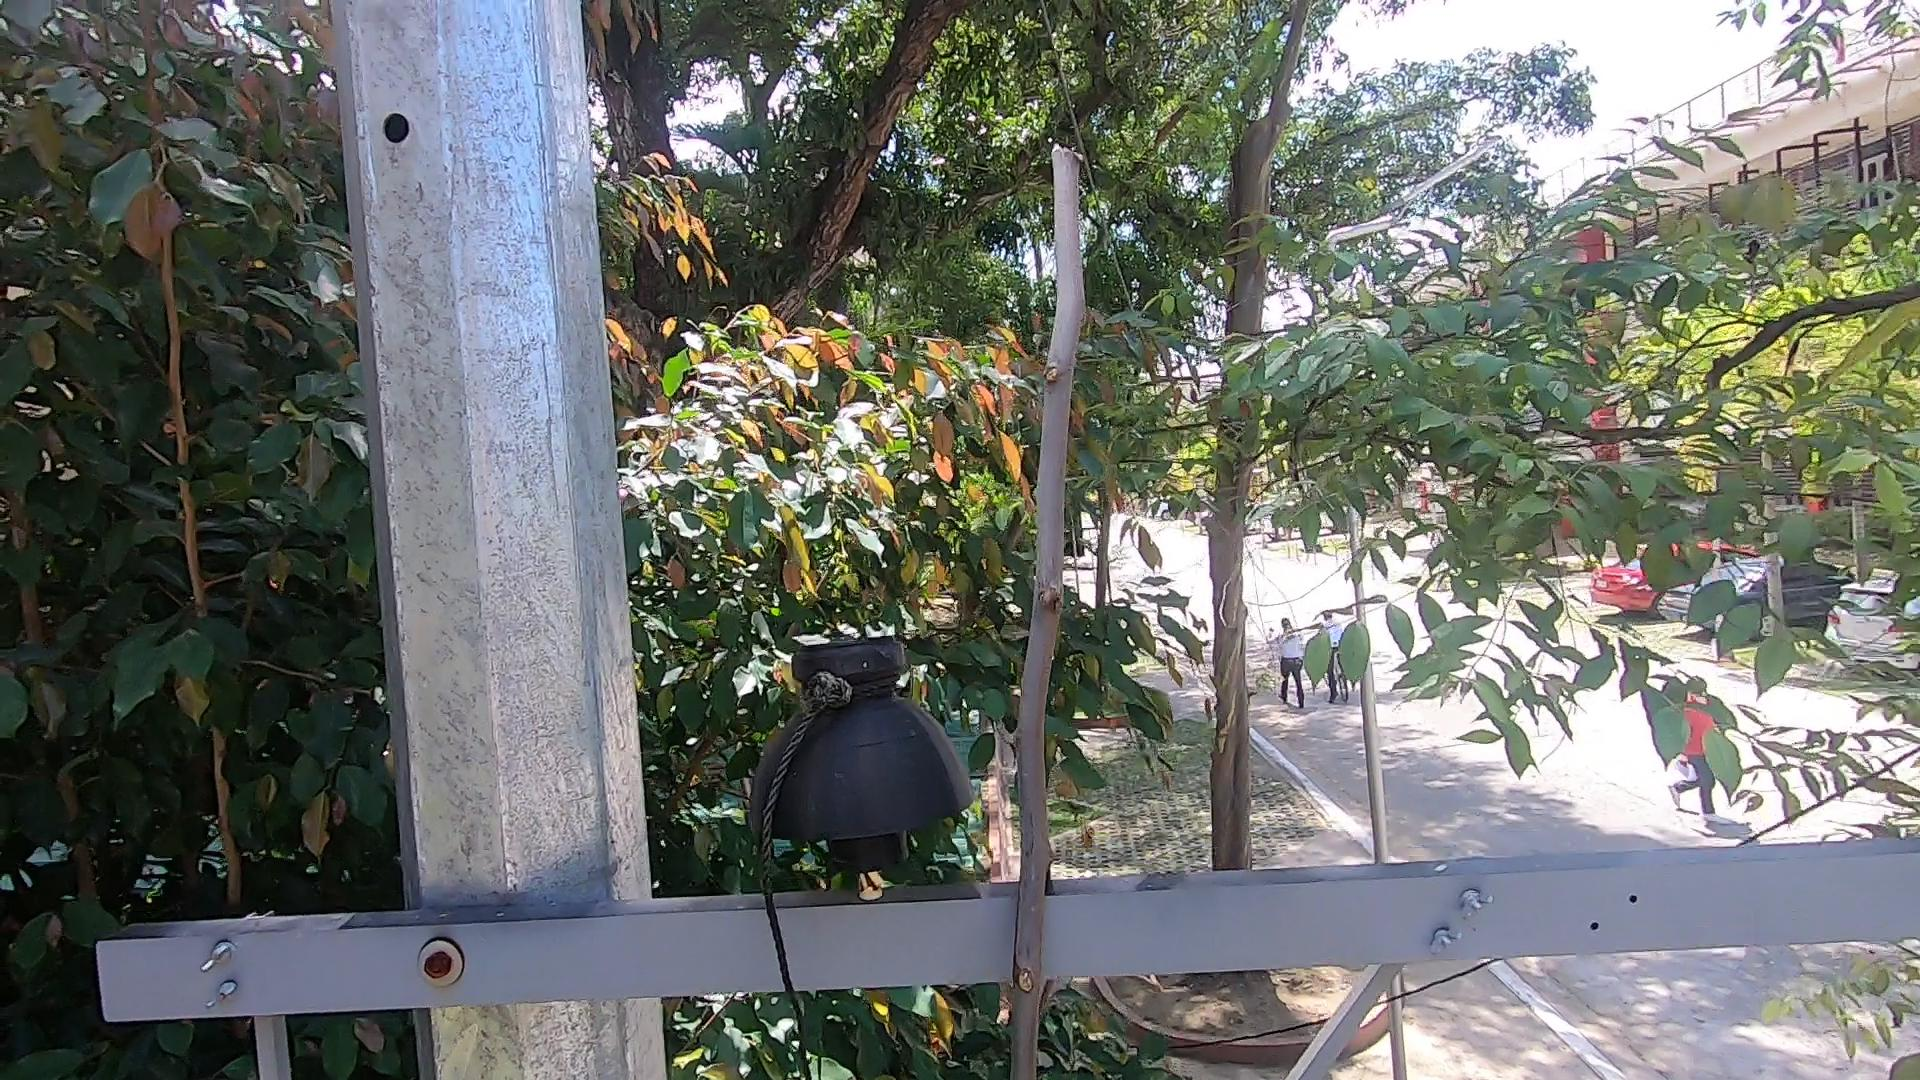tree branch: (956, 102, 1156, 1080)
